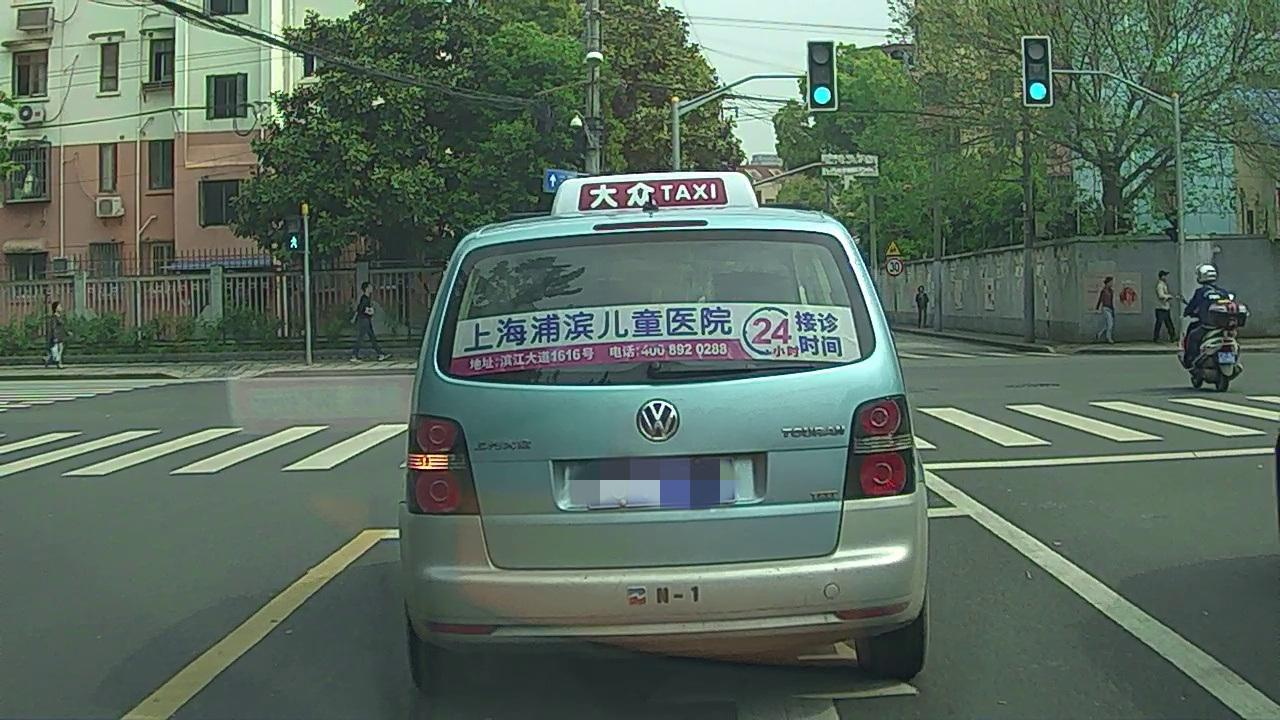traffic_light: (809, 42, 835, 109), (1024, 39, 1051, 103)
